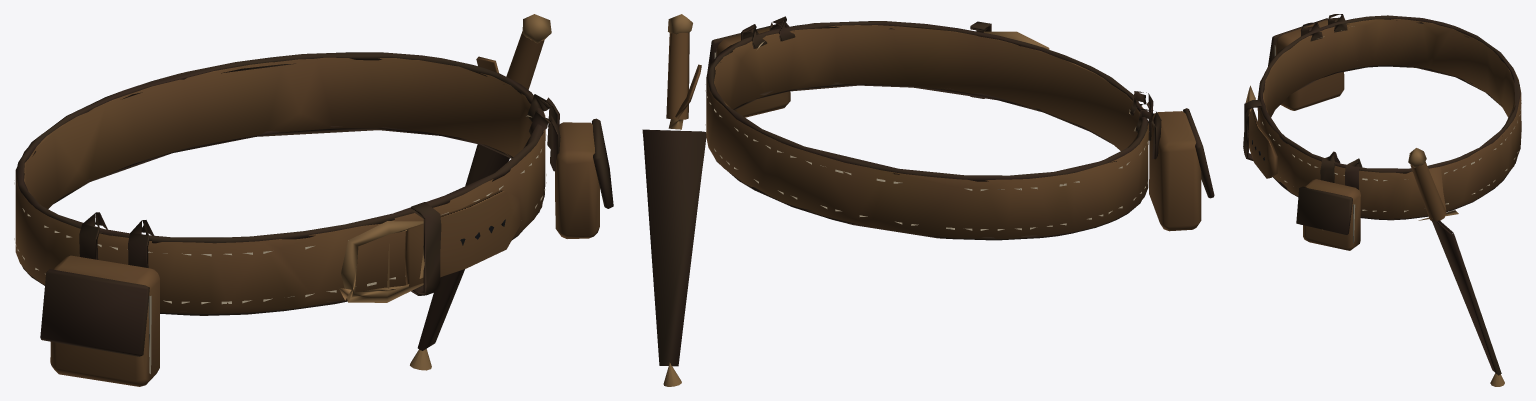
The picture shows the model from 3 angles, left to right: view 1: azimuth 30°, elevation 25°; view 2: azimuth 150°, elevation 25°; view 3: azimuth 270°, elevation 25°; orthographic projection. The views are drawn at different scales.
Parts seen in each view (by area): view 1: tanned leather, aged alloy edge; view 2: tanned leather, aged alloy edge; view 3: tanned leather, aged alloy edge.
Boxes of the visible parts, x1=… form: tanned leather: x1=14, y1=31, x2=613, y2=386; aged alloy edge: x1=338, y1=14, x2=551, y2=370; tanned leather: x1=642, y1=16, x2=1214, y2=366; aged alloy edge: x1=663, y1=14, x2=1049, y2=386; tanned leather: x1=1243, y1=14, x2=1521, y2=375; aged alloy edge: x1=1245, y1=85, x2=1504, y2=386.
Size of the model in its own units: 0.4563 by 0.2859 by 0.286.
